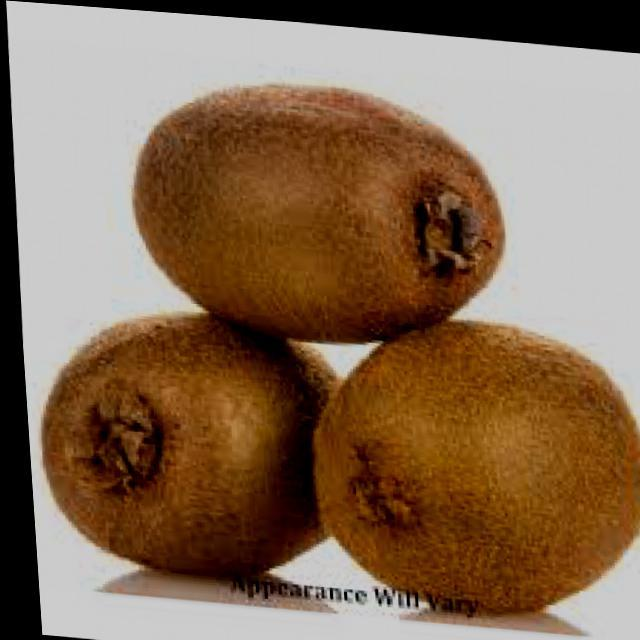kiwi: (118, 61, 506, 345), (292, 300, 640, 611), (24, 300, 356, 589)
